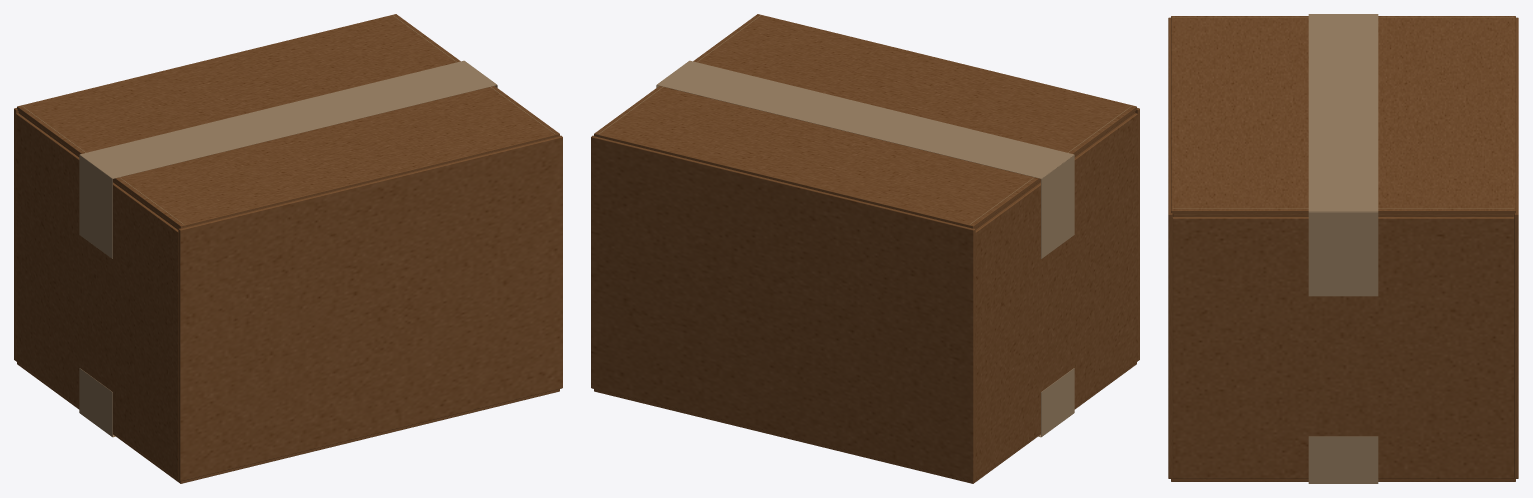
Rendered from taped_shipping_box.glb.
3 renders of one model, left to right at view 1: azimuth 30°, elevation 25°; view 2: azimuth 150°, elevation 25°; view 3: azimuth 270°, elevation 25°, orthographic. The views are drawn at different scales.
Visible parts, largest first — view 1: Long folded wall, Short folded wall, Meeting long closure flap.002, Meeting long closure flap.003, Continuous seam tape.001, Tape folded over carton end, Bottom tape folded over carton end, Meeting long closure flap; view 2: Long folded wall.001, Short folded wall, Meeting long closure flap.003, Meeting long closure flap.002, Continuous seam tape.001, Tape folded over carton end, Bottom tape folded over carton end, Meeting long closure flap.001; view 3: Short folded wall.001, Meeting long closure flap.002, Meeting long closure flap.003, Continuous seam tape.001, Tape folded over carton end.001, Bottom tape folded over carton end.001, Long folded wall, Long folded wall.001, Underlapping end flap right.001, Meeting long closure flap, Meeting long closure flap.001.
Boxes of the visible parts, x1,y1,x2,y2 form: Long folded wall: (178, 135, 562, 481); Short folded wall: (16, 113, 178, 479); Meeting long closure flap.002: (113, 86, 559, 228); Meeting long closure flap.003: (17, 14, 460, 154); Continuous seam tape.001: (79, 60, 496, 178); Tape folded over carton end: (79, 155, 112, 258); Bottom tape folded over carton end: (79, 368, 112, 436); Meeting long closure flap: (113, 389, 559, 483); Long folded wall.001: (591, 135, 975, 481); Short folded wall: (975, 113, 1137, 479); Meeting long closure flap.003: (594, 86, 1040, 228); Meeting long closure flap.002: (693, 14, 1136, 154); Continuous seam tape.001: (657, 60, 1074, 178); Tape folded over carton end: (1041, 155, 1074, 258); Bottom tape folded over carton end: (1041, 368, 1074, 436); Meeting long closure flap.001: (594, 389, 1040, 483); Short folded wall.001: (1172, 217, 1514, 478); Meeting long closure flap.002: (1171, 16, 1308, 214); Meeting long closure flap.003: (1378, 16, 1515, 214); Continuous seam tape.001: (1308, 14, 1378, 211); Tape folded over carton end.001: (1308, 212, 1378, 296); Bottom tape folded over carton end.001: (1308, 436, 1378, 483); Long folded wall: (1168, 17, 1172, 478); Long folded wall.001: (1514, 17, 1518, 478); Underlapping end flap right.001: (1173, 214, 1513, 216); Meeting long closure flap: (1171, 478, 1308, 481); Meeting long closure flap.001: (1378, 478, 1515, 481).
Bounding box in the file's own units: 0.3217 × 0.2066 × 0.241.
3 materials, 1 textured.
